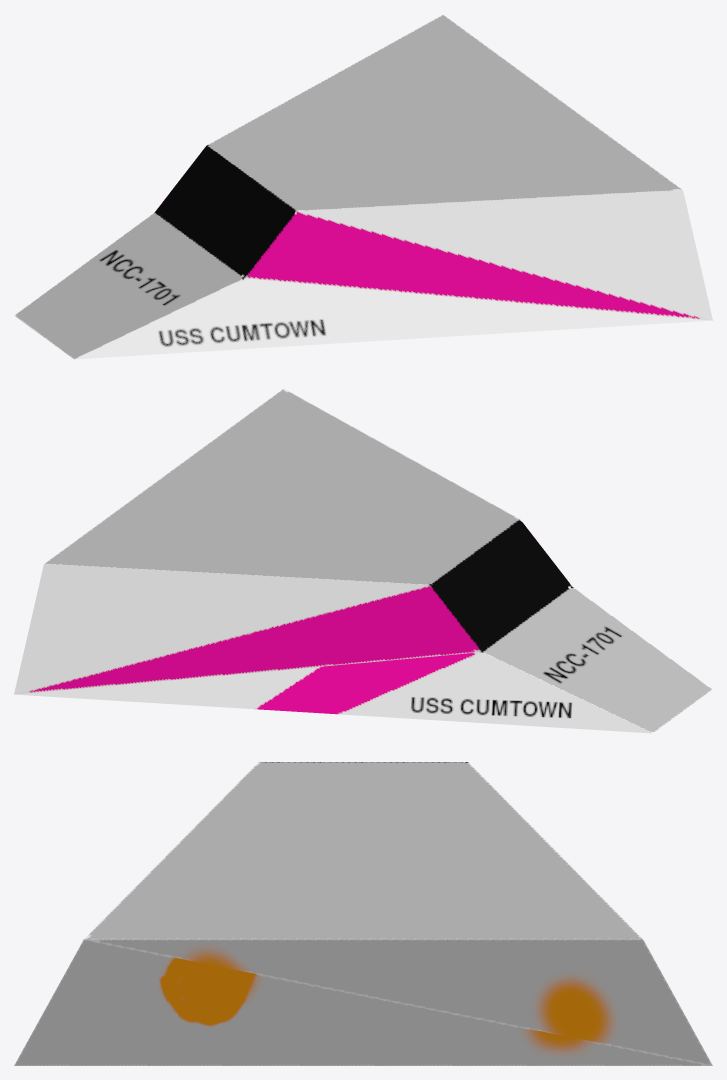
Rendered from ship.gltf.
The picture shows the model from 3 angles, top to bottom: view 1: azimuth 30°, elevation 25°; view 2: azimuth 150°, elevation 25°; view 3: azimuth 270°, elevation 25°; orthographic projection. The views are drawn at different scales.
Visible parts, largest first — view 1: Ship; view 2: Ship; view 3: Ship.
Part boxes in pixels (<box>): Ship: <box>14,14,712,359</box>; Ship: <box>14,388,712,733</box>; Ship: <box>14,762,712,1065</box>.
Size of the model in its own units: 10 by 2 by 10.
1 material, 1 textured.
